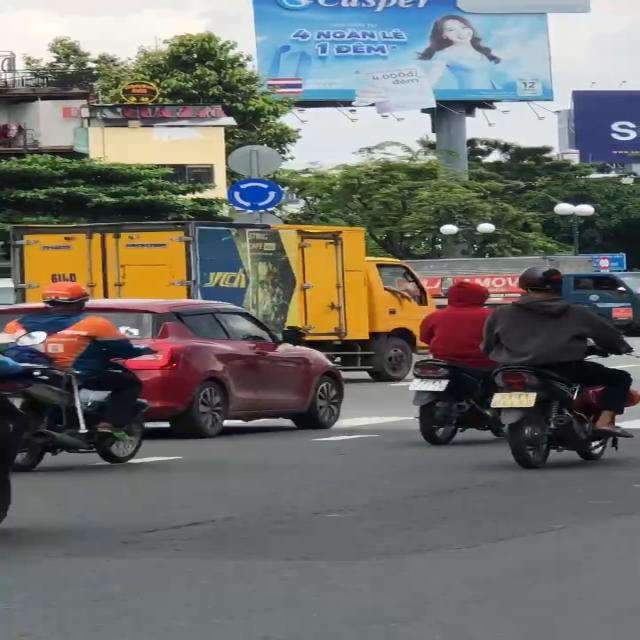Bien bao noi giao nhau chay theo vong xuyen: (221, 176, 286, 209)
